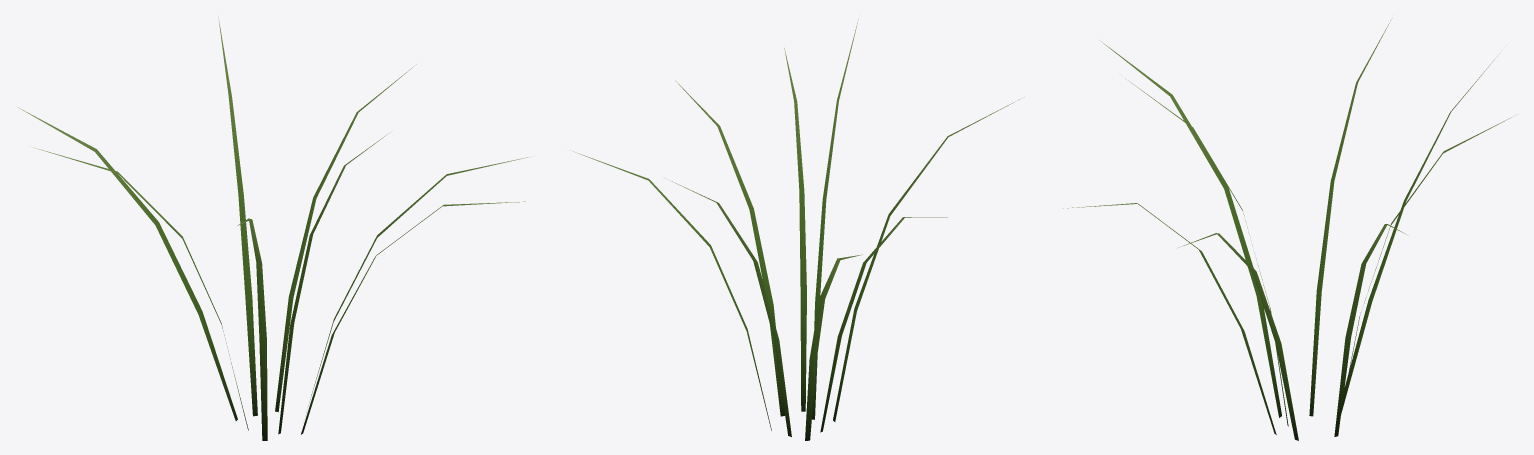
File: b612_veg_VL_Grass_Tall_A_1.glb
3 views of the same model, side by side, from view 1: azimuth 30°, elevation 25°; view 2: azimuth 150°, elevation 25°; view 3: azimuth 270°, elevation 25° (orthographic). The views are drawn at different scales.
Parts seen in each view (by area): view 1: Grass_Tall_A_LOD1; view 2: Grass_Tall_A_LOD1; view 3: Grass_Tall_A_LOD1.
Boxes of the visible parts, x1=… form: Grass_Tall_A_LOD1: x1=18, y1=17, x2=530, y2=440; Grass_Tall_A_LOD1: x1=573, y1=19, x2=1019, y2=440; Grass_Tall_A_LOD1: x1=1063, y1=20, x2=1511, y2=440.
Size of the model in its own units: 0.7873 by 0.667 by 0.7496.
